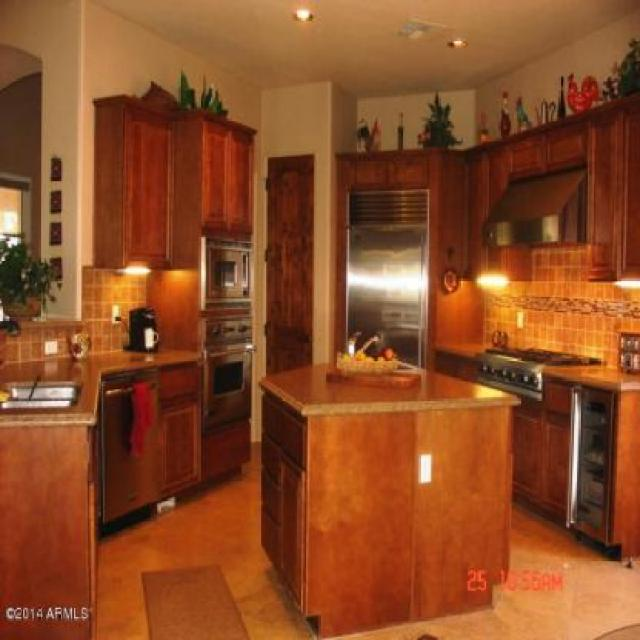Floor: (97, 442, 318, 638), (326, 502, 575, 639)
